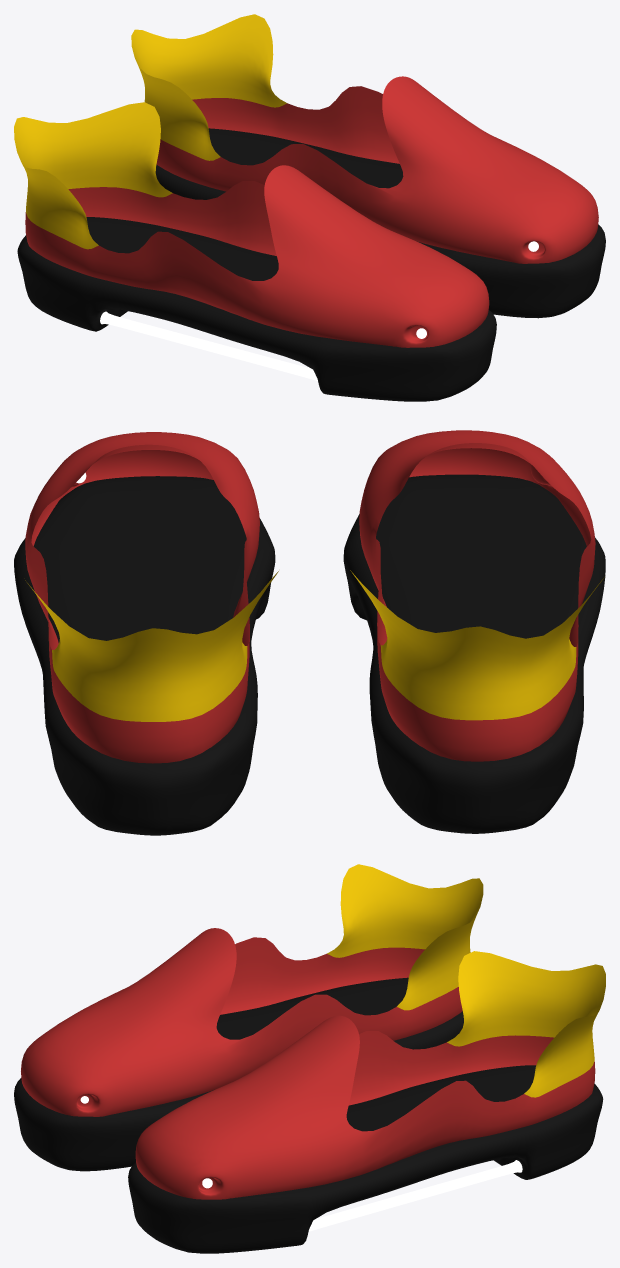
Rendered from 2-sneaker.glb.
3 views of the same model, one above another, from view 1: azimuth 30°, elevation 25°; view 2: azimuth 150°, elevation 25°; view 3: azimuth 270°, elevation 25° (orthographic). The views are drawn at different scales.
Parts seen in each view (by area): view 1: Plane; view 2: Plane; view 3: Plane.
Boxes of the visible parts, x1,y1,x2,y2 form: Plane: (14,14,605,401); Plane: (14,430,605,835); Plane: (14,864,605,1253).
Size of the model in its own units: 5.16 by 1.87 by 5.59.
